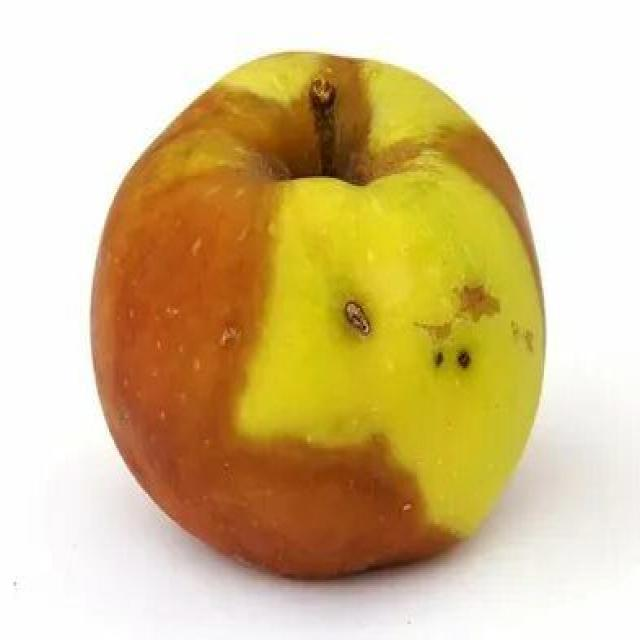Rotten: (80, 42, 558, 588)
